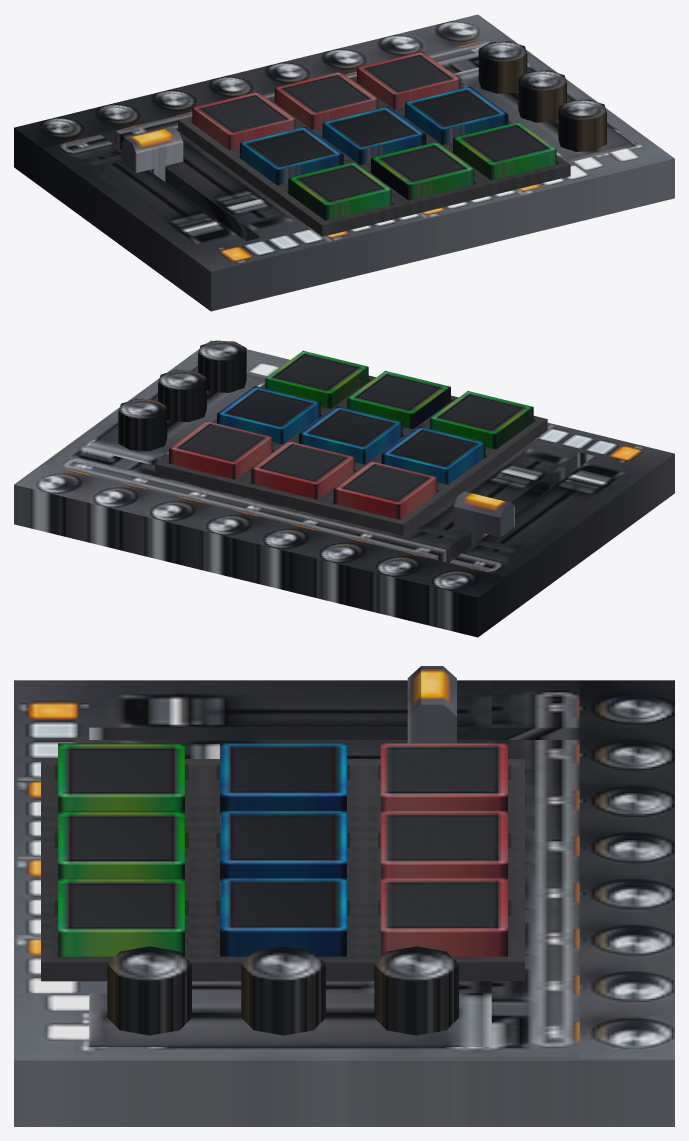
File: msh_DrumPad.fbx
The picture shows the model from 3 angles, top to bottom: view 1: azimuth 30°, elevation 25°; view 2: azimuth 150°, elevation 25°; view 3: azimuth 270°, elevation 25°; orthographic projection. The views are drawn at different scales.
Parts seen in each view (by area): view 1: msh_drumPad_body, msh_drumPad_button_3, msh_drumPad_button_2, msh_drumPad_button_1, msh_drumPad_button_6, msh_drumPad_button_5, msh_drumPad_button_9, msh_drumPad_button_4, msh_drumPad_button_8, msh_drumPad_button_7, msh_bouton_qui_tourne_3, msh_pots (+2 smaller); view 2: msh_drumPad_body, msh_drumPad_button_9, msh_drumPad_button_8, msh_drumPad_button_7, msh_drumPad_button_3, msh_drumPad_button_6, msh_drumPad_button_2, msh_drumPad_button_1, msh_drumPad_button_5, msh_drumPad_button_4, msh_bouton_qui_tourne_1, msh_pots (+2 smaller); view 3: msh_drumPad_body, msh_drumPad_button_7, msh_drumPad_button_1, msh_drumPad_button_4, msh_drumPad_button_9, msh_drumPad_button_8, msh_drumPad_button_2, msh_drumPad_button_3, msh_drumPad_button_5, msh_drumPad_button_6, msh_bouton_qui_tourne_1, msh_bouton_qui_tourne_3 (+2 smaller).
Part boxes in pixels (box(x1,y1,x2,y2)): msh_drumPad_body: box(14, 14, 674, 311); msh_drumPad_button_3: box(288, 162, 391, 220); msh_drumPad_button_2: box(371, 142, 474, 200); msh_drumPad_button_1: box(453, 122, 556, 180); msh_drumPad_button_6: box(240, 127, 343, 185); msh_drumPad_button_5: box(322, 107, 426, 165); msh_drumPad_button_9: box(192, 92, 295, 150); msh_drumPad_button_4: box(405, 86, 508, 144); msh_drumPad_button_8: box(274, 71, 378, 129); msh_drumPad_button_7: box(357, 51, 460, 109); msh_bouton_qui_tourne_3: box(558, 99, 606, 151); msh_pots: box(121, 127, 183, 181); msh_drumPad_body: box(14, 340, 674, 637); msh_drumPad_button_9: box(333, 461, 437, 519); msh_drumPad_button_8: box(251, 441, 354, 499); msh_drumPad_button_7: box(169, 421, 272, 479); msh_drumPad_button_3: box(430, 391, 533, 449); msh_drumPad_button_6: box(381, 426, 485, 484); msh_drumPad_button_2: box(347, 371, 450, 429); msh_drumPad_button_1: box(265, 350, 368, 408); msh_drumPad_button_5: box(299, 406, 402, 464); msh_drumPad_button_4: box(217, 386, 320, 444); msh_bouton_qui_tourne_1: box(118, 398, 167, 451); msh_pots: box(453, 491, 514, 545); msh_drumPad_body: box(14, 680, 674, 1126); msh_drumPad_button_7: box(380, 878, 507, 956); msh_drumPad_button_1: box(58, 878, 184, 956); msh_drumPad_button_4: box(220, 878, 346, 956); msh_drumPad_button_9: box(380, 743, 507, 810); msh_drumPad_button_8: box(380, 811, 507, 878); msh_drumPad_button_2: box(58, 811, 184, 878); msh_drumPad_button_3: box(58, 743, 184, 810); msh_drumPad_button_5: box(220, 811, 346, 878); msh_drumPad_button_6: box(220, 743, 346, 810); msh_bouton_qui_tourne_1: box(374, 946, 458, 1035); msh_bouton_qui_tourne_3: box(107, 946, 191, 1035).
Bounding box in the file's own units: 401 × 74.74 × 295.
